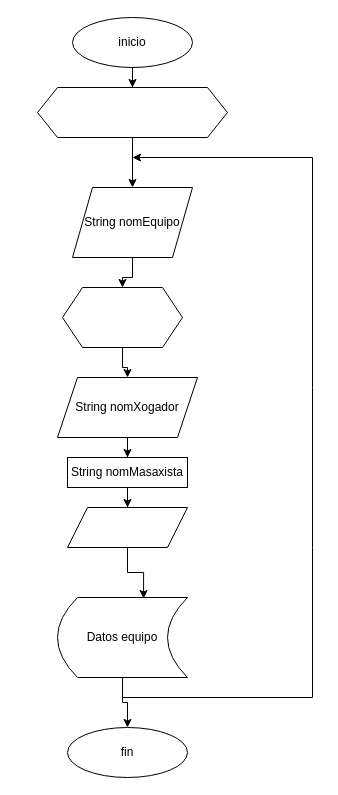
This 338x795 diagram has some shape labels left out. Each missing label, with the centre of its shape:
"int nEquipo=0;nEquipo=10;nEquipo++" belongs at [132,112].
"int nXogador=0;nXogador=22;nXogador++" belongs at [122,317].
"nMasaxista++" belongs at [127,527].
